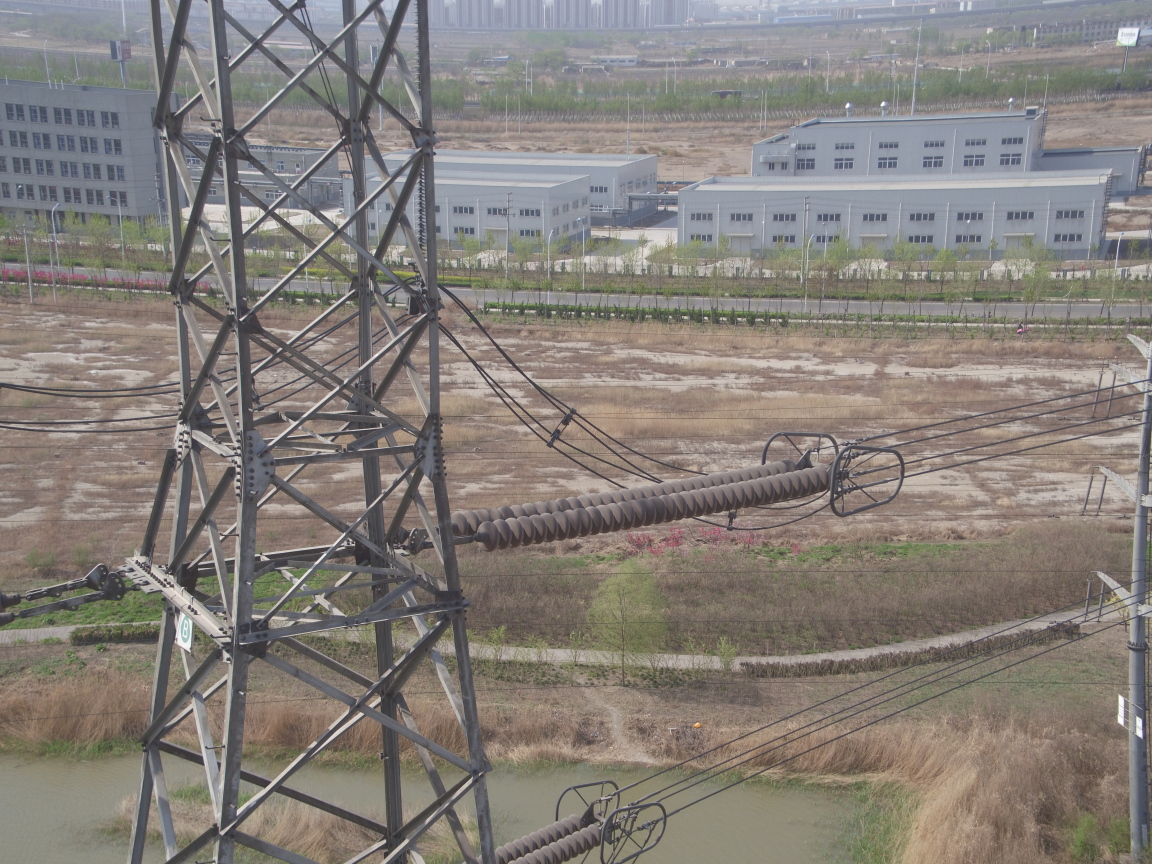insulator: (437, 454, 846, 552), (494, 810, 616, 864)
